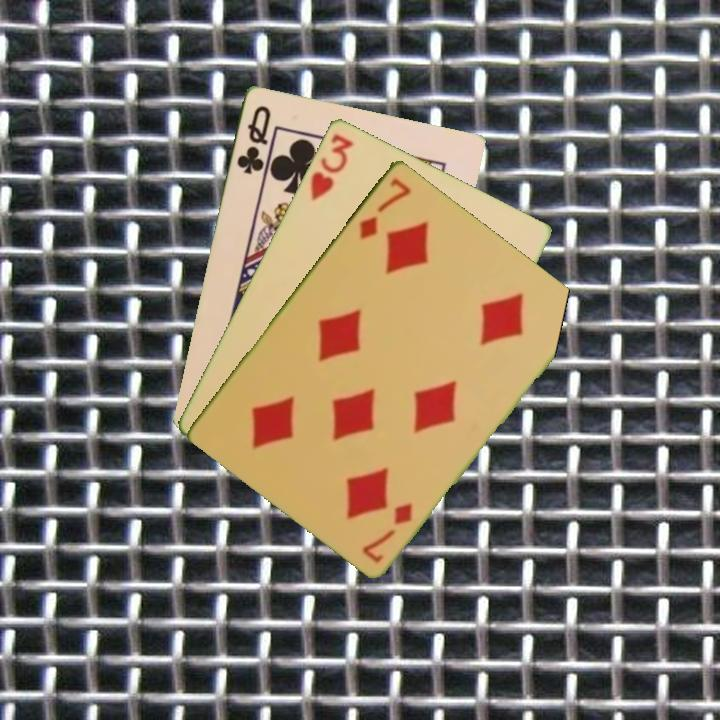3h: (306, 130, 357, 203)
7d: (355, 173, 414, 242), (359, 498, 416, 566)
Qc: (233, 101, 274, 177)
